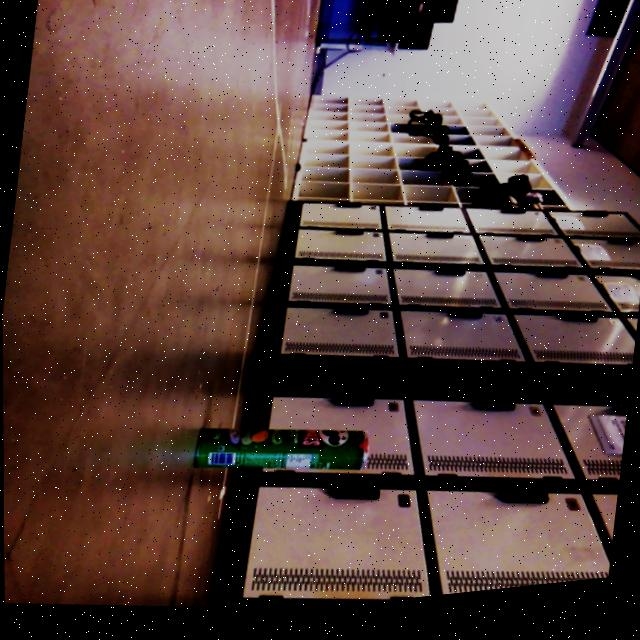greenpringles: (178, 404, 382, 510)
